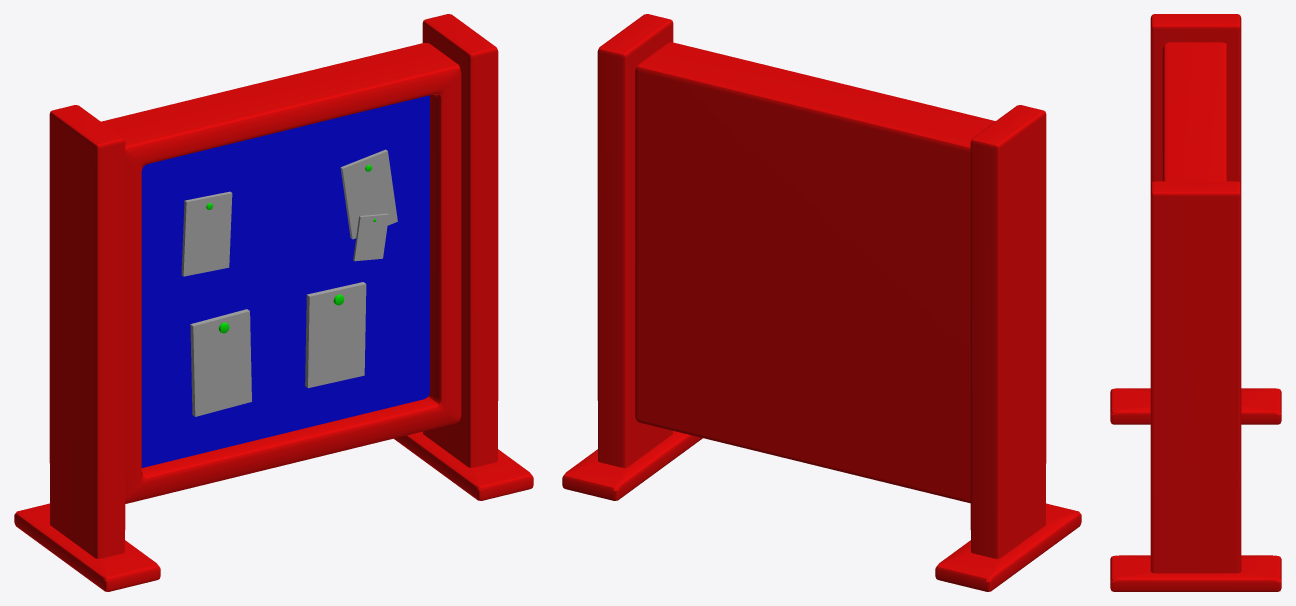
File: SM_Board.fbx
3 views of the same model, side by side, from view 1: azimuth 30°, elevation 25°; view 2: azimuth 150°, elevation 25°; view 3: azimuth 270°, elevation 25° (orthographic). The views are drawn at different scales.
Visible parts, largest first — view 1: SM_board; view 2: SM_board; view 3: SM_board.
Part boxes in pixels (box(x1,y1,x2,y2)): SM_board: box(14, 14, 533, 591); SM_board: box(562, 14, 1081, 591); SM_board: box(1110, 14, 1281, 591).
Bounding box in the file's own units: 439 × 419 × 165.
